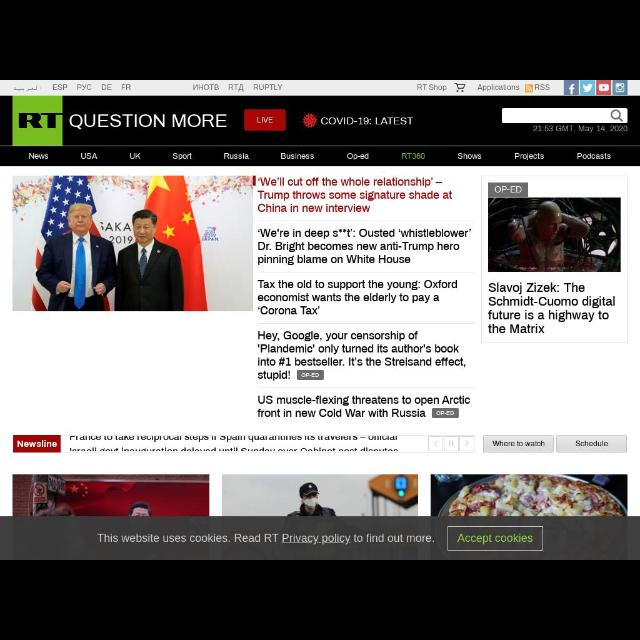button: (428, 436, 444, 452), (444, 437, 458, 451), (460, 437, 474, 451)
icon: (611, 110, 623, 122), (454, 84, 466, 92), (448, 440, 454, 448), (434, 440, 438, 446), (465, 441, 469, 447)
iframe: (1, 518, 639, 558)
image: (12, 176, 254, 312), (430, 475, 628, 559), (13, 474, 209, 558), (222, 476, 418, 558), (488, 198, 620, 272), (13, 96, 62, 146), (300, 110, 416, 128), (580, 81, 596, 95), (596, 81, 612, 95), (612, 82, 628, 95), (564, 81, 578, 95), (525, 85, 533, 93)
input: (502, 108, 628, 124)
multitab: (1, 146, 640, 166)
panel: (14, 436, 478, 452)
text: (257, 228, 471, 266), (258, 330, 466, 368), (258, 177, 452, 213), (256, 280, 458, 314), (489, 282, 615, 334), (98, 533, 434, 545), (69, 114, 227, 128), (258, 395, 470, 405), (70, 436, 398, 442), (258, 408, 427, 418), (70, 448, 398, 452), (456, 533, 534, 545), (534, 126, 628, 132), (492, 440, 544, 448), (476, 84, 520, 92), (258, 371, 290, 382), (18, 440, 58, 448), (576, 152, 612, 160), (280, 152, 314, 160), (576, 440, 608, 448), (514, 153, 544, 161), (13, 84, 42, 92), (417, 85, 447, 92), (224, 152, 250, 160), (400, 152, 426, 160), (456, 152, 482, 160), (494, 185, 522, 192), (346, 153, 369, 161), (253, 84, 283, 90), (29, 152, 49, 160), (172, 152, 192, 160), (193, 84, 219, 90), (228, 84, 244, 92), (257, 116, 273, 124), (82, 152, 98, 160), (301, 372, 319, 378), (436, 410, 454, 416), (52, 84, 68, 90), (534, 84, 550, 90), (129, 152, 141, 160), (78, 84, 92, 90), (122, 85, 132, 92), (101, 85, 112, 91)
textbutton: (447, 526, 543, 550), (557, 436, 627, 452), (484, 436, 554, 452), (244, 109, 286, 131), (488, 183, 528, 197), (298, 370, 324, 380), (432, 409, 460, 418)
toolbar: (1, 80, 639, 96)
